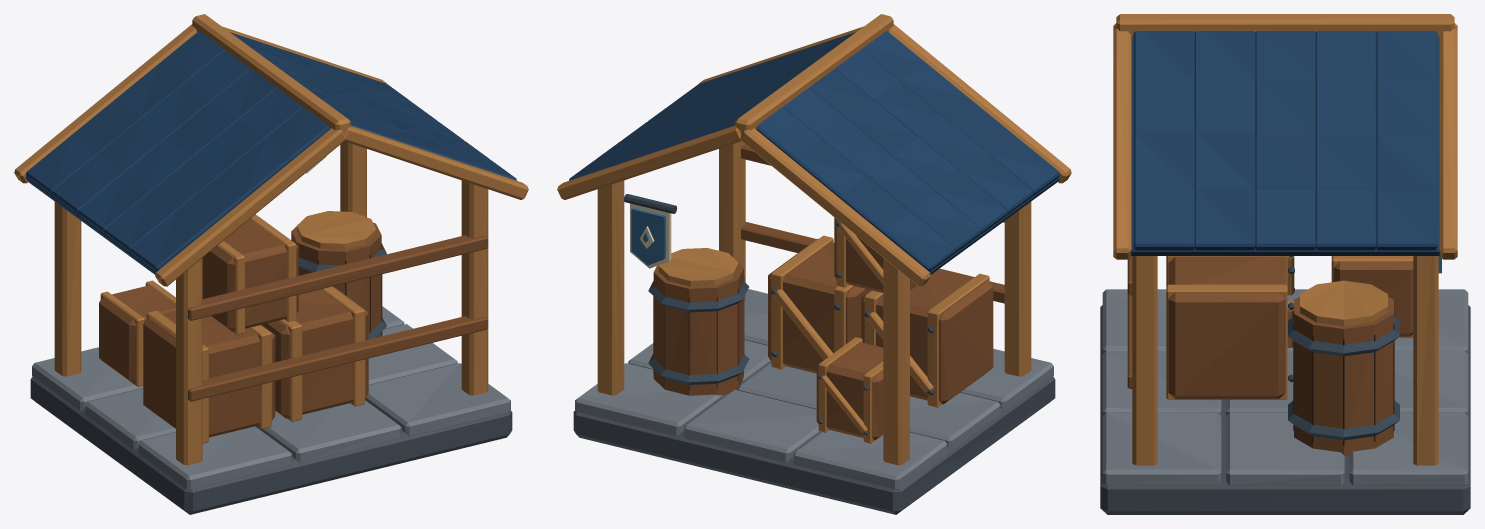
The model's file is building_storage.glb.
3 renders of one model, left to right at view 1: azimuth 30°, elevation 25°; view 2: azimuth 150°, elevation 25°; view 3: azimuth 270°, elevation 25°, orthographic. The views are drawn at different scales.
Parts seen in each view (by area): view 1: body; view 2: body; view 3: body.
Part boxes in pixels (left/top/right/bottom): body: left=14, top=14, right=528, bottom=514; body: left=557, top=14, right=1071, bottom=514; body: left=1100, top=14, right=1470, bottom=514.
Size of the model in its own units: 2.53 by 2.31 by 1.9.
